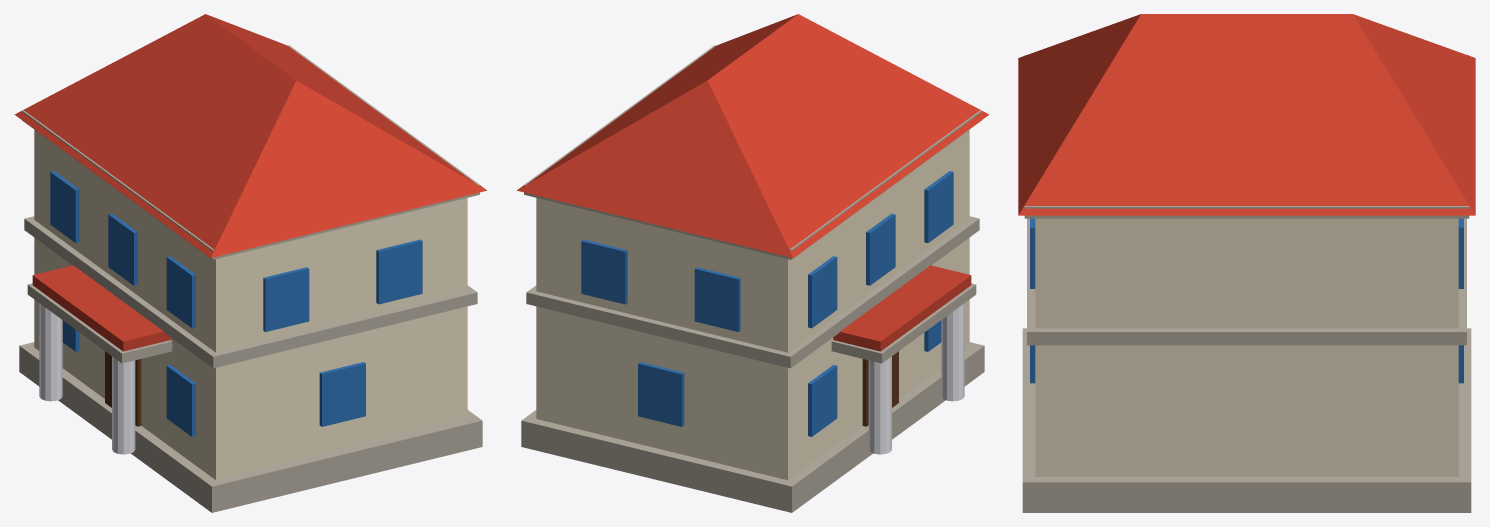
Rendered from building.obj.
3 views of the same model, side by side, from view 1: azimuth 30°, elevation 25°; view 2: azimuth 150°, elevation 25°; view 3: azimuth 270°, elevation 25° (orthographic). The views are drawn at different scales.
Parts seen in each view (by area): view 1: Bldg_1_Body, Bldg_1_Roof, Bldg_1_Base, Cube.004, Cube.008, Cube.018, Cube.019, Cube.017, Cylinder.001, Cube.005, Cylinder, Cube.007 (+5 smaller); view 2: Bldg_1_Body, Bldg_1_Roof, Bldg_1_Base, Cube.004, Cube.008, Cube.015, Cube.016, Cube.014, Cylinder, Cube.005, Cylinder.001, Cube.007 (+5 smaller); view 3: Bldg_1_Body, Bldg_1_Roof, Bldg_1_Base, Cube.004, Cube.005.
Boxes of the visible parts, <box> form: Bldg_1_Body: <box>34,130,467,480</box>; Bldg_1_Roof: <box>14,14,486,257</box>; Bldg_1_Base: <box>19,342,482,512</box>; Cube.004: <box>24,216,477,368</box>; Cube.008: <box>32,265,170,351</box>; Cube.018: <box>263,267,309,331</box>; Cube.019: <box>376,239,422,304</box>; Cube.017: <box>319,362,365,426</box>; Cylinder.001: <box>112,356,135,454</box>; Cube.005: <box>22,45,479,259</box>; Cylinder: <box>39,303,62,401</box>; Cube.007: <box>27,283,172,363</box>; Bldg_1_Body: <box>536,130,969,480</box>; Bldg_1_Roof: <box>517,14,989,257</box>; Bldg_1_Base: <box>521,342,984,512</box>; Cube.004: <box>526,216,979,368</box>; Cube.008: <box>833,265,971,351</box>; Cube.015: <box>694,267,740,331</box>; Cube.016: <box>581,239,627,304</box>; Cube.014: <box>638,362,684,426</box>; Cylinder: <box>868,356,891,454</box>; Cube.005: <box>524,45,981,259</box>; Cylinder.001: <box>941,303,964,401</box>; Cube.007: <box>831,283,976,363</box>; Bldg_1_Body: <box>1035,218,1458,476</box>; Bldg_1_Roof: <box>1018,14,1475,215</box>; Bldg_1_Base: <box>1022,328,1471,512</box>; Cube.004: <box>1027,218,1466,345</box>; Cube.005: <box>1024,55,1469,218</box>.
Bounding box in the file's own units: 10 × 11 × 10.8.
